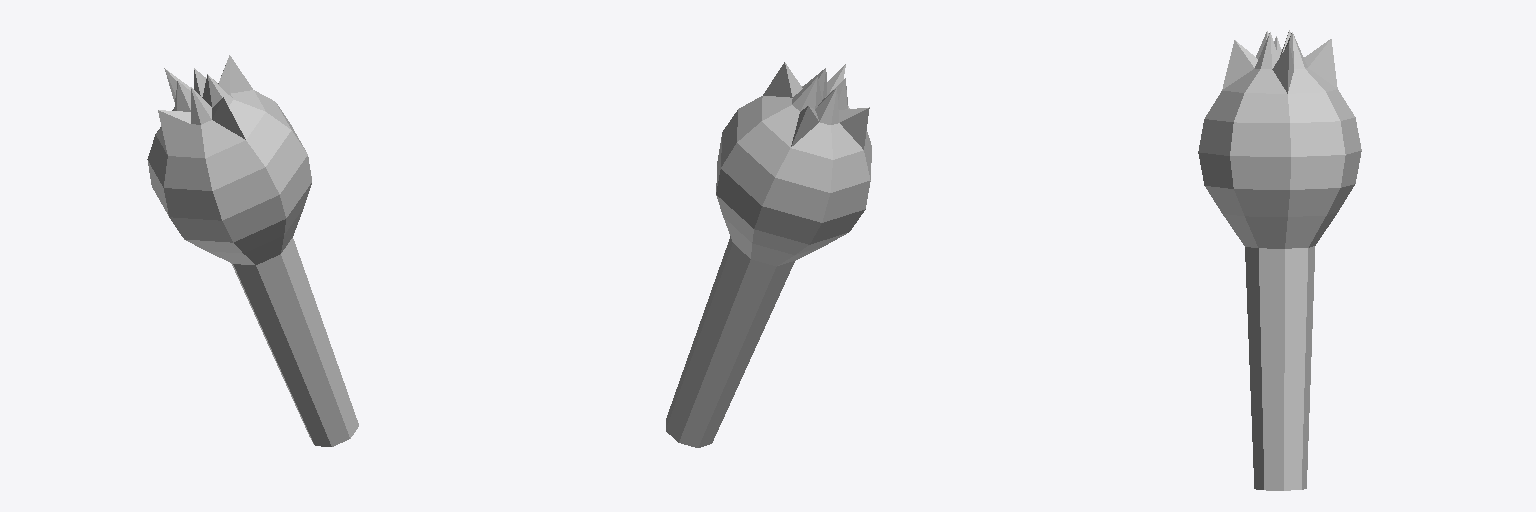
Rendered from alien.obj.
3 views of the same model, side by side, from view 1: azimuth 30°, elevation 25°; view 2: azimuth 150°, elevation 25°; view 3: azimuth 270°, elevation 25° (orthographic).
Visible parts, largest first — view 1: Sphere.000; view 2: Sphere.000; view 3: Sphere.000.
Part boxes in pixels (x1,y1,x2,y2): Sphere.000: (147, 55, 358, 446); Sphere.000: (666, 62, 871, 447); Sphere.000: (1198, 30, 1361, 490).
Bounding box in the file's own units: 4.2 × 8.15 × 2.98.